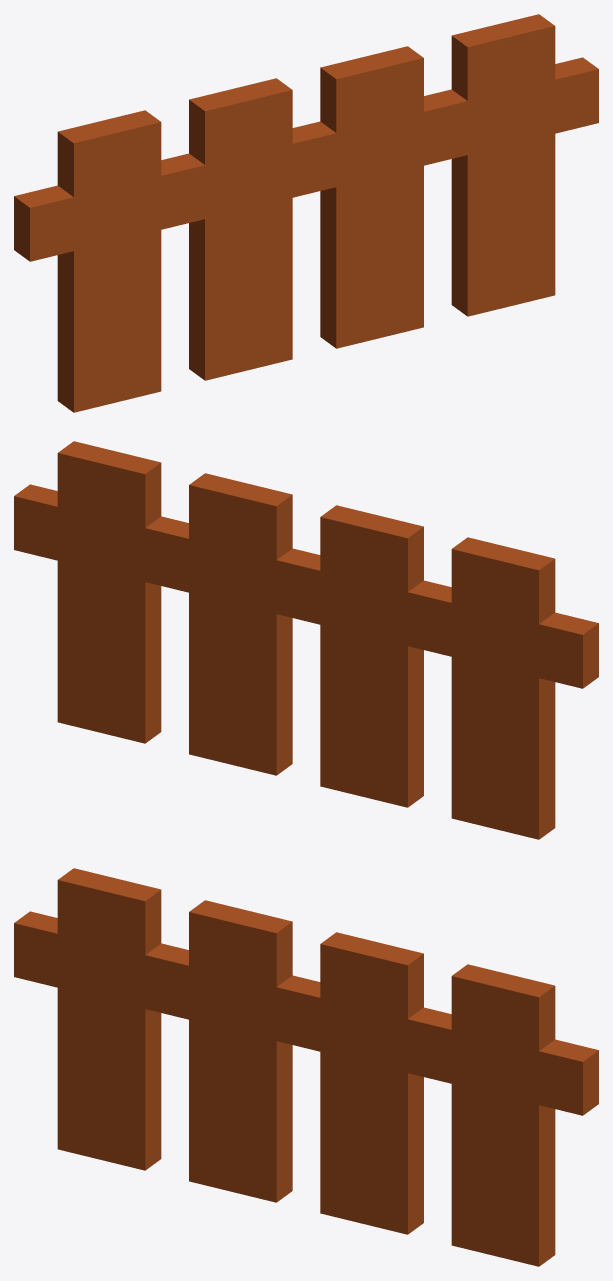
Rendered from fatBarriere.fbx.
3 renders of one model, top to bottom at view 1: azimuth 30°, elevation 25°; view 2: azimuth 150°, elevation 25°; view 3: azimuth 330°, elevation 25°, orthographic.
Parts seen in each view (by area): view 1: Cube; view 2: Cube; view 3: Cube.
Part boxes in pixels (x1,y1,x2,y2): Cube: [14, 14, 598, 412]; Cube: [14, 441, 598, 839]; Cube: [14, 868, 598, 1266].
Size of the model in its own units: 0.9819 by 20.02 by 9.06.
